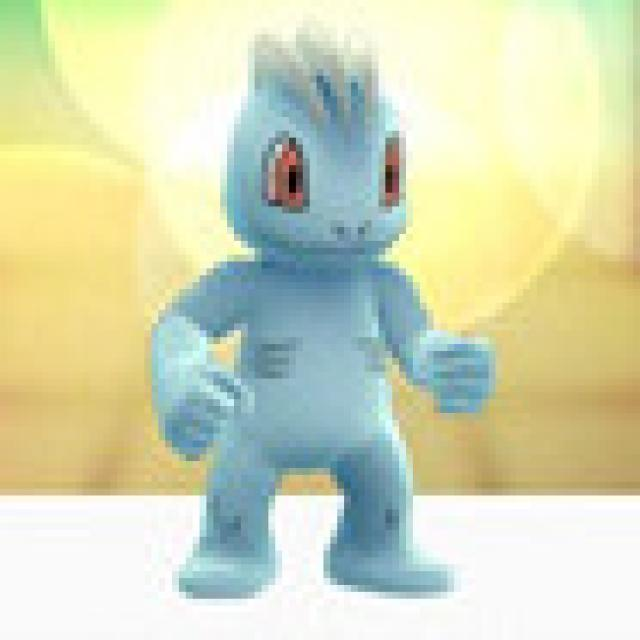Machop: (147, 31, 496, 602)
